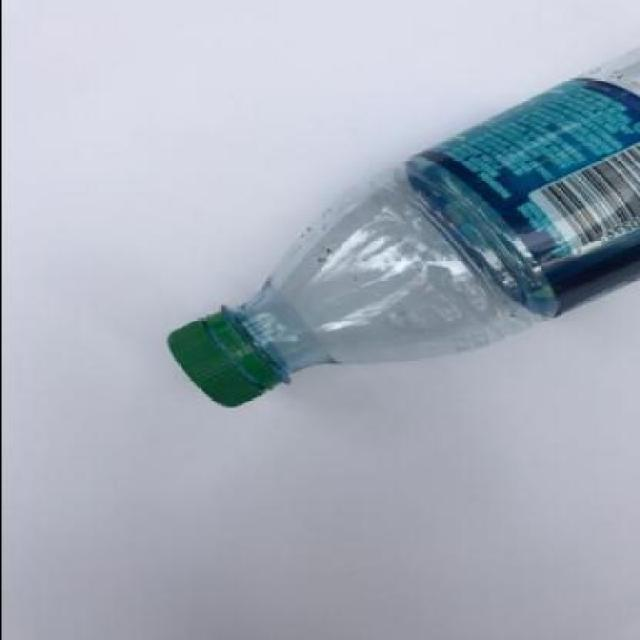PLASTIC: (164, 49, 638, 406), (398, 75, 638, 318), (165, 308, 290, 407)
